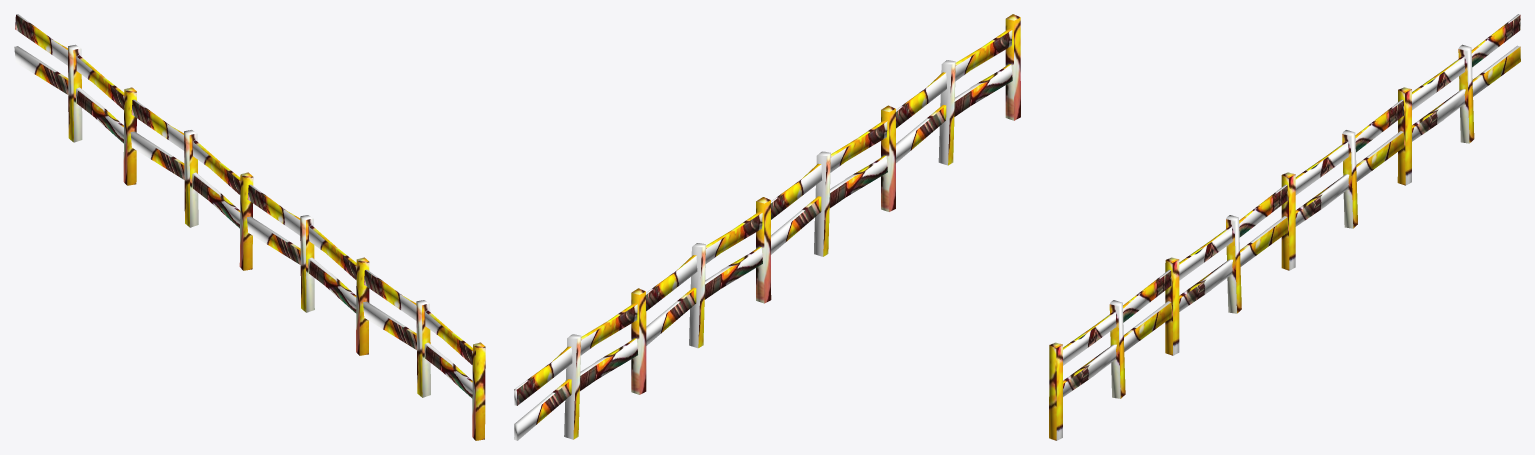
Rendered from fenceLong_lod1.fbx.
The picture shows the model from 3 angles, left to right: view 1: azimuth 30°, elevation 25°; view 2: azimuth 150°, elevation 25°; view 3: azimuth 330°, elevation 25°; orthographic projection. The views are drawn at different scales.
Visible parts, largest first — view 1: fenceLong_lod1; view 2: fenceLong_lod1; view 3: fenceLong_lod1.
Boxes of the visible parts, x1,y1,x2,y2 form: fenceLong_lod1: (14,14,485,440); fenceLong_lod1: (514,14,1020,440); fenceLong_lod1: (1049,14,1520,440).
Size of the model in its own units: 26.81 by 179 by 1604.
